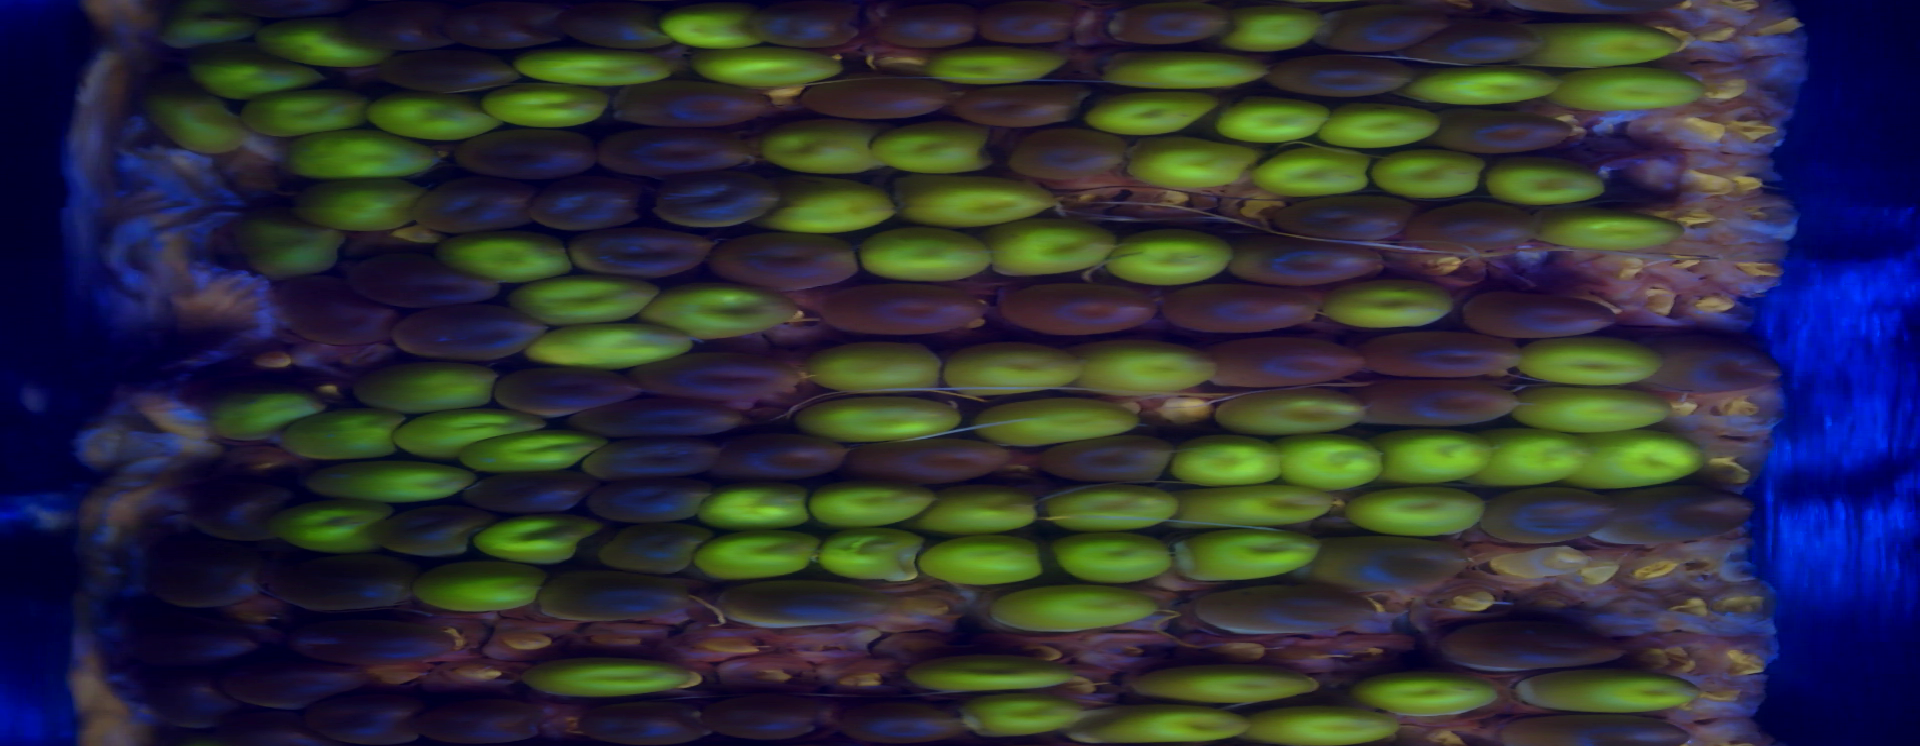fluorescent: (976, 392, 1145, 446), (1539, 208, 1686, 265), (800, 391, 970, 437), (204, 387, 324, 452), (522, 653, 684, 699), (934, 341, 1082, 391), (1134, 660, 1318, 701), (899, 176, 1053, 224), (1515, 673, 1708, 710), (541, 318, 686, 369), (1589, 428, 1708, 488), (1173, 537, 1316, 586), (1100, 49, 1266, 91), (1510, 387, 1668, 430), (1520, 341, 1660, 388), (1007, 588, 1153, 633), (393, 408, 525, 458), (1539, 29, 1689, 73), (299, 184, 424, 236), (697, 529, 822, 582), (1118, 232, 1242, 284), (364, 96, 500, 143), (376, 358, 496, 412), (524, 278, 666, 323), (1124, 146, 1255, 195), (773, 183, 900, 233), (1413, 69, 1558, 113), (522, 53, 673, 94), (1379, 429, 1490, 485), (1057, 534, 1173, 588), (1560, 73, 1719, 113), (482, 510, 584, 571), (1089, 347, 1209, 398), (1087, 88, 1222, 134), (921, 530, 1044, 579), (860, 233, 993, 278), (1168, 431, 1282, 484), (996, 217, 1109, 269), (1322, 284, 1455, 330), (1354, 673, 1509, 710), (670, 289, 793, 336), (806, 345, 939, 388), (245, 97, 371, 142), (279, 505, 384, 559), (1032, 489, 1187, 526), (768, 122, 883, 171), (1284, 432, 1386, 488), (447, 240, 580, 282), (408, 568, 547, 608), (1248, 707, 1385, 746), (479, 89, 600, 134), (1184, 488, 1333, 523), (1079, 710, 1244, 742), (1326, 107, 1449, 149), (1216, 401, 1360, 436), (271, 31, 393, 72), (928, 40, 1051, 82), (284, 412, 393, 458), (157, 91, 242, 149), (887, 124, 992, 171), (1487, 437, 1583, 489), (809, 485, 940, 523), (1247, 158, 1371, 197), (253, 220, 342, 276), (1368, 149, 1484, 191), (824, 534, 922, 582), (1344, 499, 1480, 533), (1239, 4, 1322, 59), (467, 437, 599, 472), (316, 465, 470, 495), (299, 143, 441, 175), (197, 56, 309, 97), (909, 658, 1082, 684), (922, 489, 1029, 530), (960, 695, 1079, 730), (1224, 104, 1329, 145), (693, 59, 855, 85), (669, 1, 749, 51), (707, 488, 809, 523), (1487, 165, 1610, 195), (170, 7, 253, 50)
nonfluorescent: (1184, 582, 1379, 643), (993, 271, 1176, 333), (541, 562, 702, 630), (1441, 610, 1619, 669), (1615, 484, 1760, 549), (851, 429, 1015, 484), (1210, 330, 1367, 387), (179, 461, 277, 552), (1321, 530, 1461, 592), (658, 347, 800, 407), (719, 575, 884, 626), (1487, 484, 1615, 549), (831, 278, 993, 330), (615, 82, 774, 134), (351, 243, 478, 307), (245, 552, 410, 601), (1658, 327, 1782, 392), (719, 230, 861, 285), (583, 394, 741, 443), (838, 685, 964, 746), (269, 274, 383, 341), (1229, 236, 1386, 284), (1466, 287, 1624, 333), (463, 131, 602, 184), (1363, 331, 1529, 375), (421, 688, 549, 746), (1167, 281, 1316, 327), (1406, 198, 1544, 249), (1368, 375, 1524, 418), (642, 179, 771, 229), (1270, 197, 1406, 245), (580, 695, 707, 746), (361, 608, 460, 673), (156, 529, 244, 601), (707, 688, 824, 742), (863, 9, 996, 56), (1500, 710, 1675, 746), (812, 72, 947, 118), (302, 688, 419, 740), (746, 1, 867, 50), (264, 601, 355, 666), (1271, 53, 1411, 94), (1109, 1, 1253, 42), (726, 429, 835, 481), (493, 366, 605, 418), (1008, 134, 1122, 184), (958, 81, 1090, 124), (219, 652, 351, 695), (602, 134, 738, 175), (599, 475, 709, 526), (421, 183, 531, 233), (402, 316, 534, 358), (564, 234, 709, 272), (326, 1, 425, 55), (468, 472, 580, 518), (382, 502, 478, 556), (1429, 24, 1545, 69), (534, 183, 636, 233), (1438, 111, 1564, 152), (587, 445, 722, 481), (973, 7, 1078, 55), (1044, 437, 1167, 478), (386, 53, 503, 94), (1329, 5, 1442, 47), (606, 527, 708, 571), (550, 7, 658, 47), (441, 1, 528, 47), (137, 675, 219, 720), (147, 611, 250, 647), (213, 713, 312, 746)
